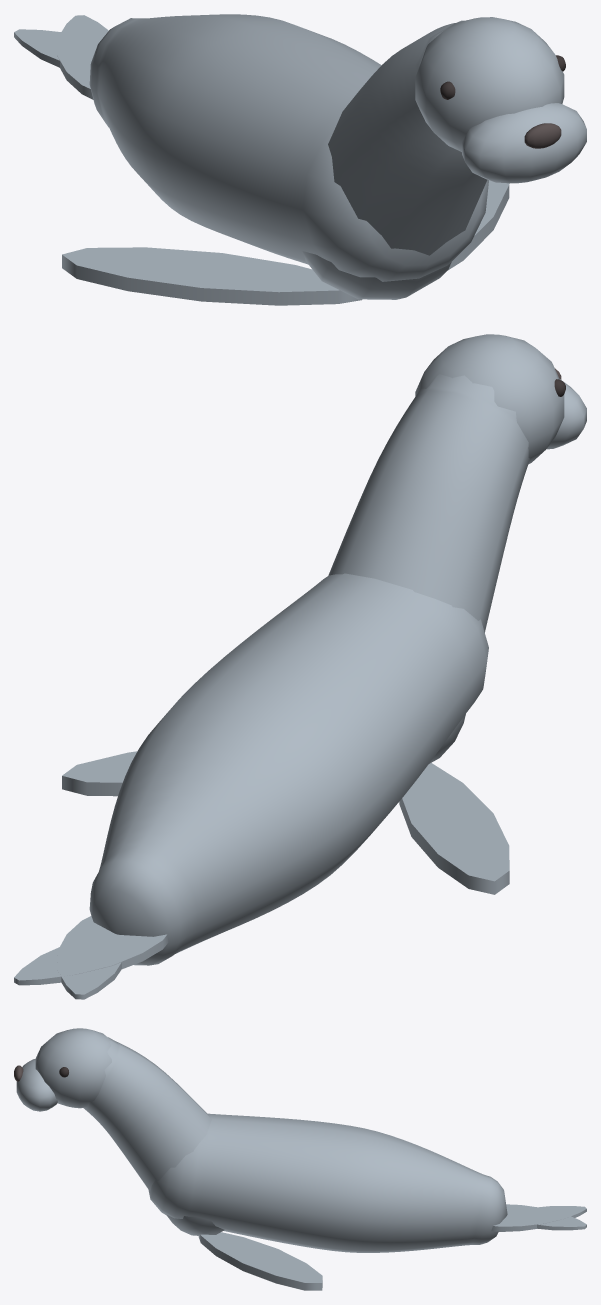
The model's file is polar-tundra-and-alpine-fauna-harp-seal-hauled-out-a8aa998d__6075.glb.
The picture shows the model from 3 angles, top to bottom: view 1: azimuth 30°, elevation 25°; view 2: azimuth 150°, elevation 25°; view 3: azimuth 270°, elevation 25°; orthographic projection. The views are drawn at different scales.
Visible parts, largest first — view 1: harp-seal-hauled-out; view 2: harp-seal-hauled-out; view 3: harp-seal-hauled-out.
Part boxes in pixels (<box>): harp-seal-hauled-out: <box>14,14,586,305</box>; harp-seal-hauled-out: <box>14,334,586,999</box>; harp-seal-hauled-out: <box>14,1028,586,1290</box>.
Size of the model in its own units: 0.85 by 0.7012 by 1.7.
